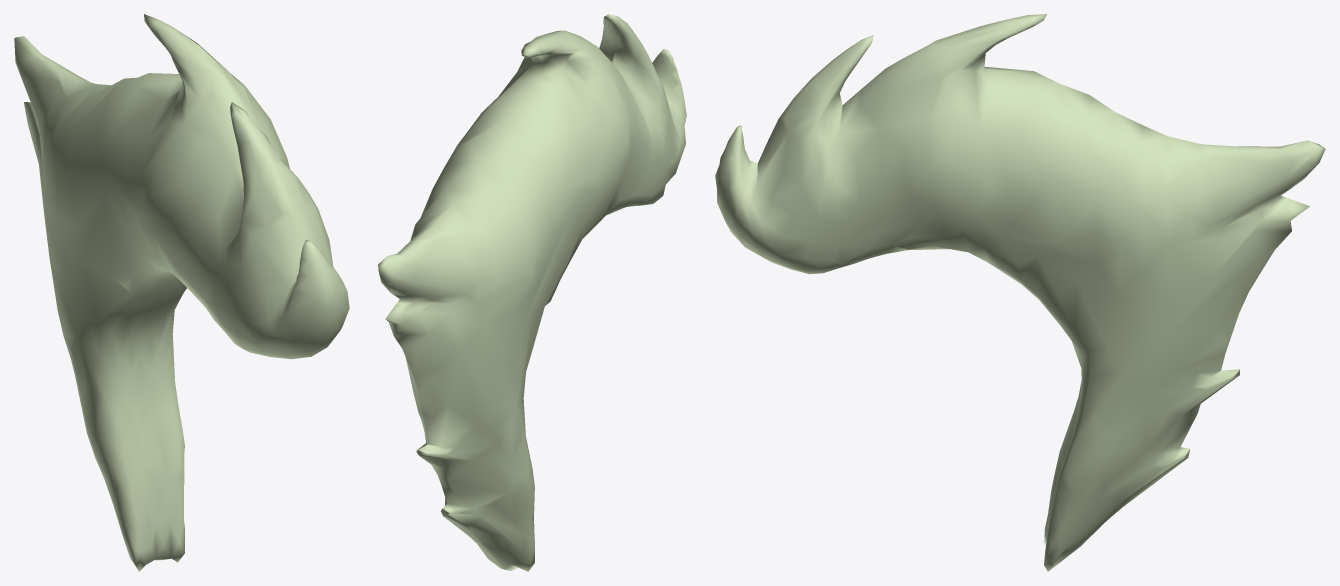
Rendered from Mane_13.fbx.
3 views of the same model, side by side, from view 1: azimuth 30°, elevation 25°; view 2: azimuth 150°, elevation 25°; view 3: azimuth 270°, elevation 25° (orthographic). The views are drawn at different scales.
Visible parts, largest first — view 1: Mane_13; view 2: Mane_13; view 3: Mane_13.
Boxes of the visible parts, x1,y1,x2,y2 form: Mane_13: (14,14,349,571); Mane_13: (378,14,686,571); Mane_13: (715,14,1325,571).
Size of the model in its own units: 61.85 by 250 by 255.
